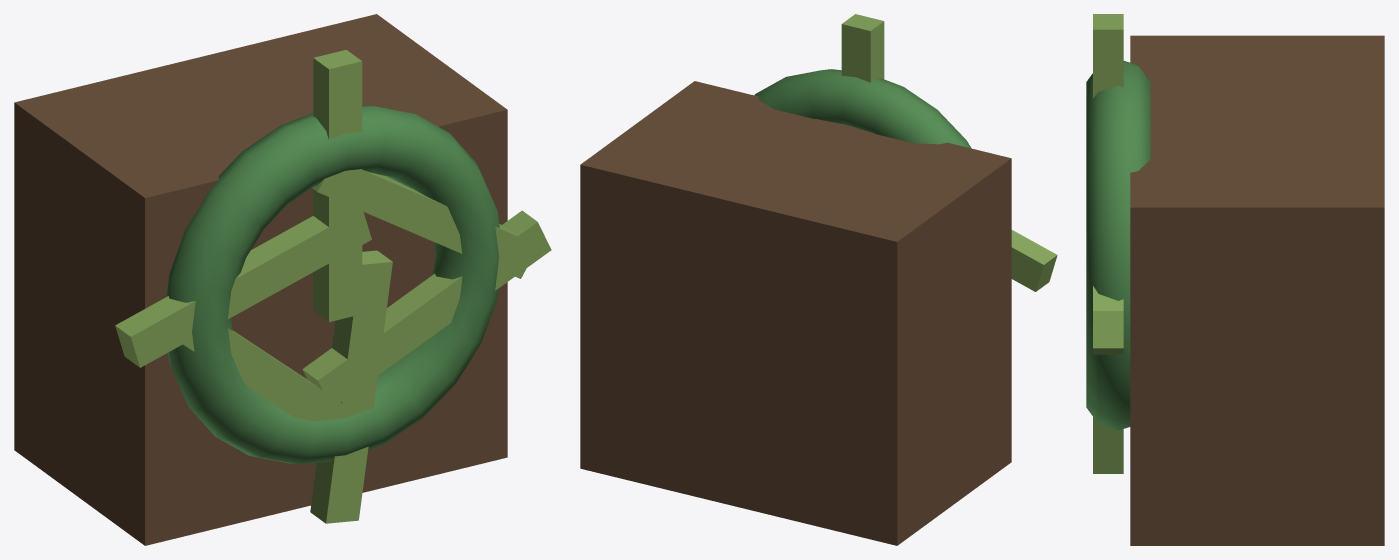
File: waterwheel_ruin.glb
3 views of the same model, side by side, from view 1: azimuth 30°, elevation 25°; view 2: azimuth 150°, elevation 25°; view 3: azimuth 270°, elevation 25° (orthographic). The views are drawn at different scales.
Visible parts, largest first — view 1: frame, wheel, paddle_5, paddle_2, paddle_0, paddle_3, paddle_1, paddle_4; view 2: frame, wheel, paddle_0, paddle_5; view 3: frame, wheel, paddle_0, paddle_3, paddle_2, paddle_1.
Boxes of the visible parts, box(x1,y1,x2,y2) form: frame: box(14, 14, 507, 545); wheel: box(166, 105, 499, 464); paddle_5: box(115, 211, 371, 367); paddle_2: box(302, 210, 551, 408); paddle_0: box(313, 49, 362, 321); paddle_3: box(310, 250, 392, 523); paddle_1: box(312, 169, 526, 278); paddle_4: box(169, 302, 357, 455); frame: box(580, 81, 1011, 545); wheel: box(754, 69, 971, 148); paddle_0: box(841, 14, 884, 82); paddle_5: box(1011, 230, 1057, 291); frame: box(1130, 35, 1384, 545); wheel: box(1086, 61, 1150, 430); paddle_0: box(1093, 14, 1123, 97); paddle_3: box(1093, 417, 1123, 473); paddle_2: box(1093, 311, 1123, 348); paddle_1: box(1093, 286, 1123, 354).
Size of what is drawn, in the model's own units: 2.79 by 2.9 by 1.76.
